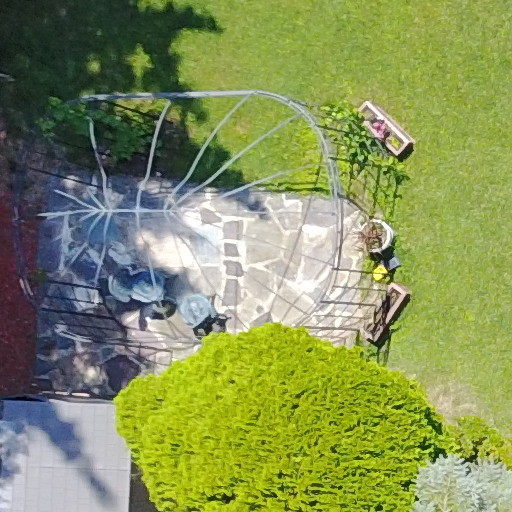flower bed: (348, 94, 426, 163), (361, 271, 416, 351)
flower pot: (352, 207, 399, 262)
